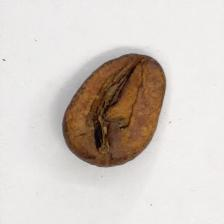NG: (76, 62, 143, 157)
